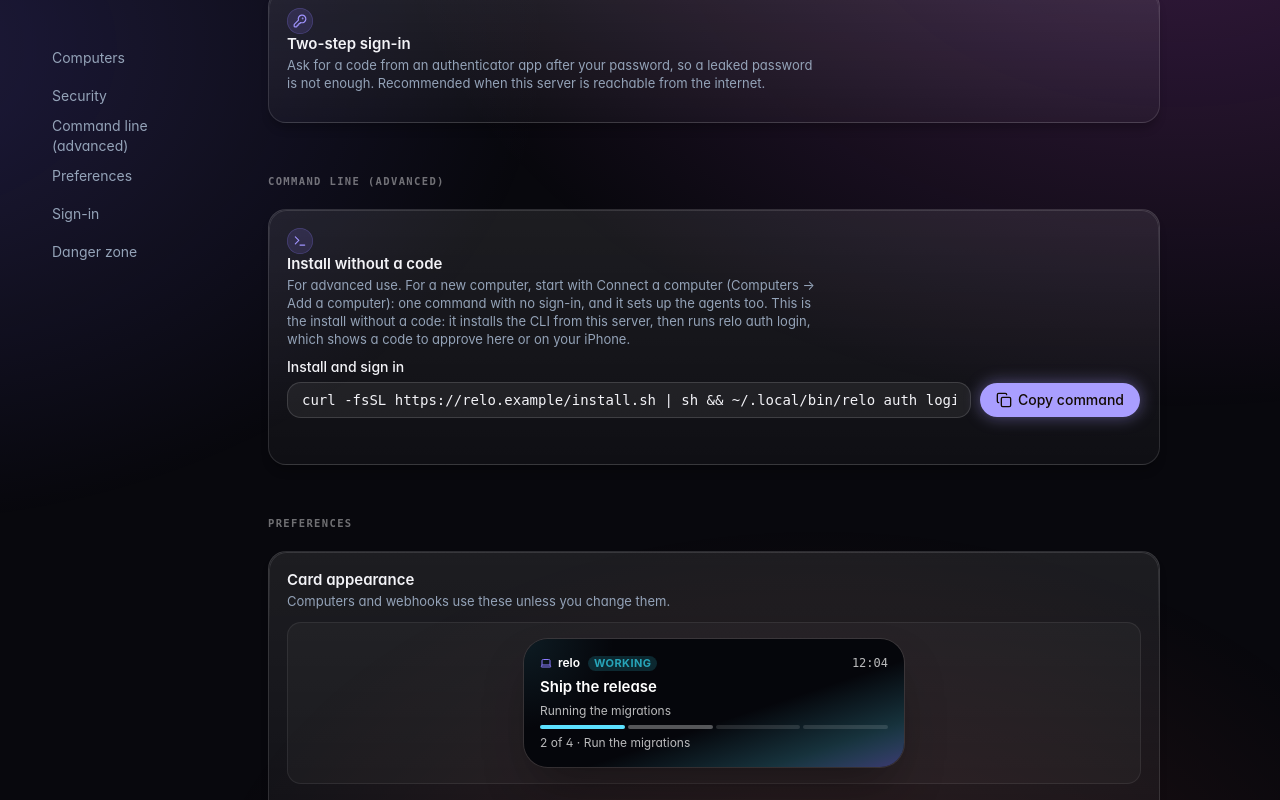
Test case: Account feature contracts › selects the login command when clipboard access is unavailable
This screenshot has width=1280, height=800.
(page scrolled)
Click the button "Copy command": {"x": 1060, "y": 400} [979,382,1141,418]
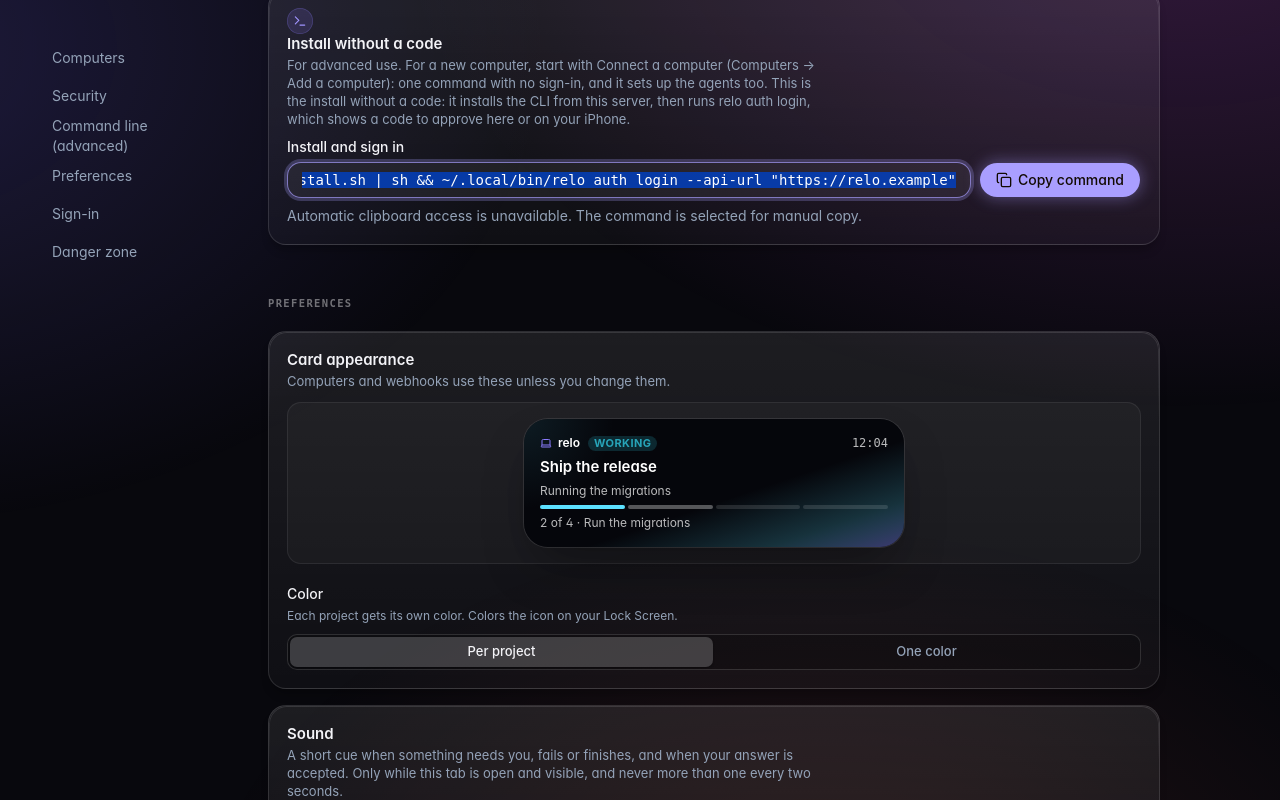
Check: the text "Automatic clipboard access is unavailable. The command is selected for manual copy." is shown, box [287,207,862,224]
